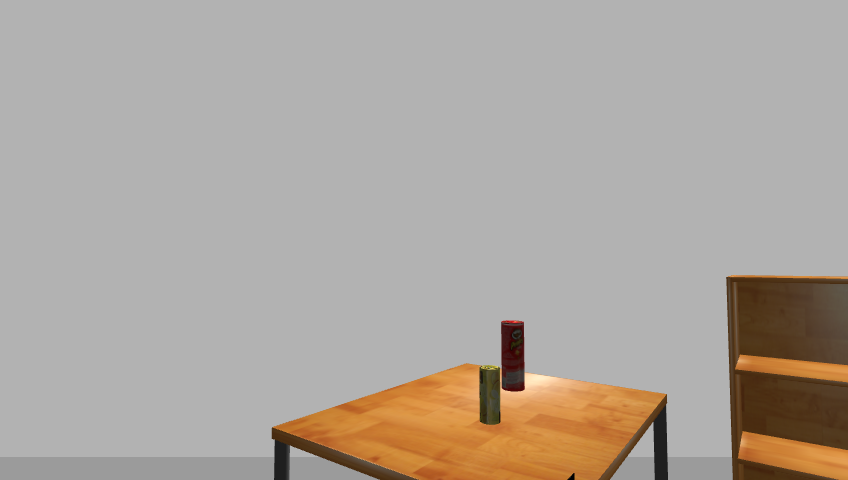biscuits pack: (478, 365, 502, 426)
bookshelf: (720, 273, 848, 480)
dinner table: (265, 365, 680, 480)
pringles can: (498, 319, 527, 393)
